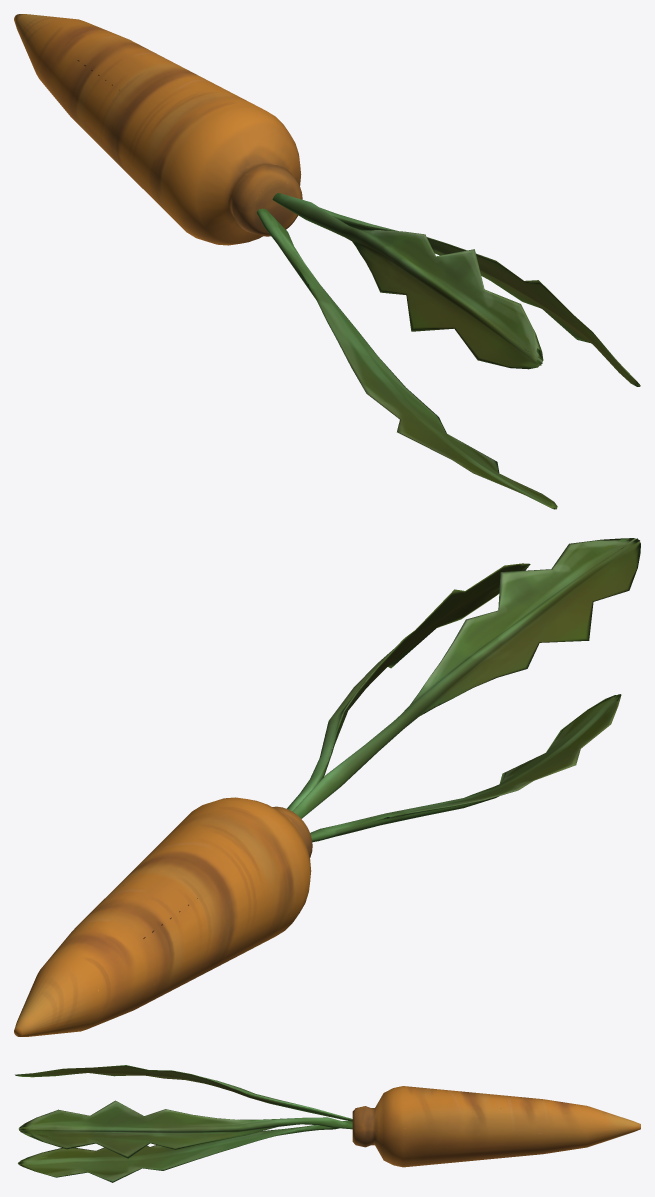
The model's file is Turninja_carrotSword.fbx.
The picture shows the model from 3 angles, top to bottom: view 1: azimuth 30°, elevation 25°; view 2: azimuth 150°, elevation 25°; view 3: azimuth 270°, elevation 25°; orthographic projection. The views are drawn at different scales.
Parts seen in each view (by area): view 1: Cylinder; view 2: Cylinder; view 3: Cylinder.
Part boxes in pixels (left/top/right/bottom): Cylinder: left=14, top=14, right=640, bottom=509; Cylinder: left=14, top=538, right=640, bottom=1036; Cylinder: left=15, top=1065, right=640, bottom=1182.
Bounding box in the file's own units: 16.7 × 18.33 × 90.56.
Materials: 1 (1 with a texture image).
